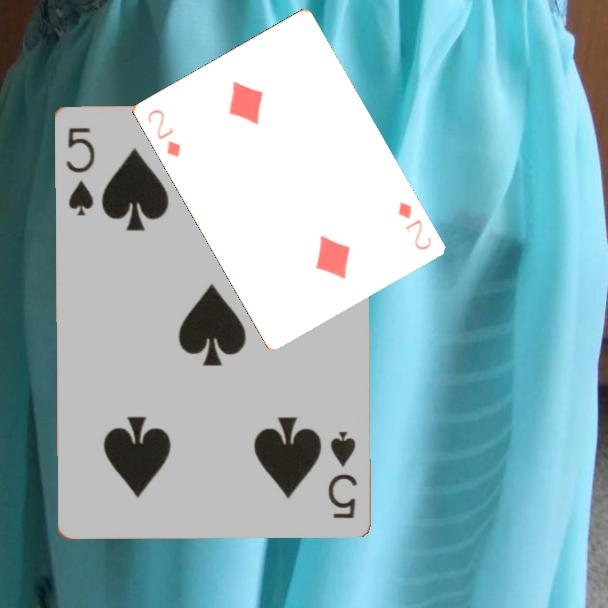d02: (143, 105, 183, 160), (394, 198, 434, 253)
s05: (62, 123, 98, 218), (324, 427, 360, 521)
